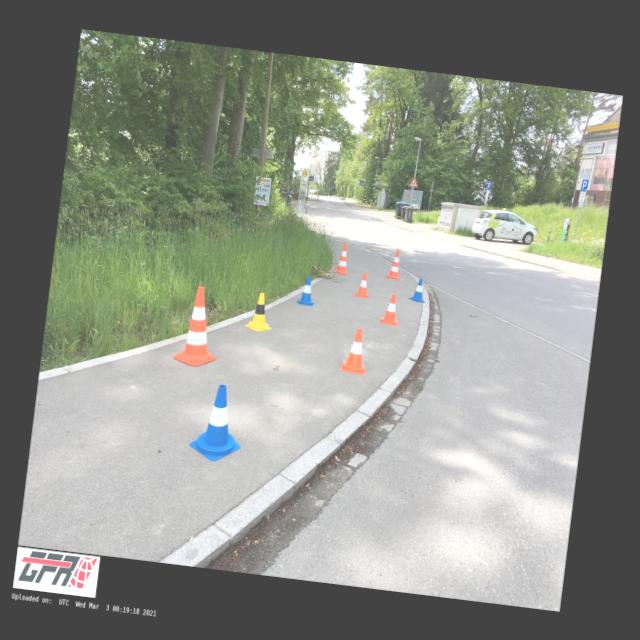blue_cone: (187, 382, 247, 464), (297, 275, 317, 306), (408, 277, 428, 302)
large_orange_cone: (172, 284, 224, 368), (333, 242, 352, 274), (386, 248, 404, 279)
orange_cone: (341, 326, 370, 374), (379, 292, 402, 325), (353, 272, 372, 298)
yellow_cone: (244, 290, 275, 332)
